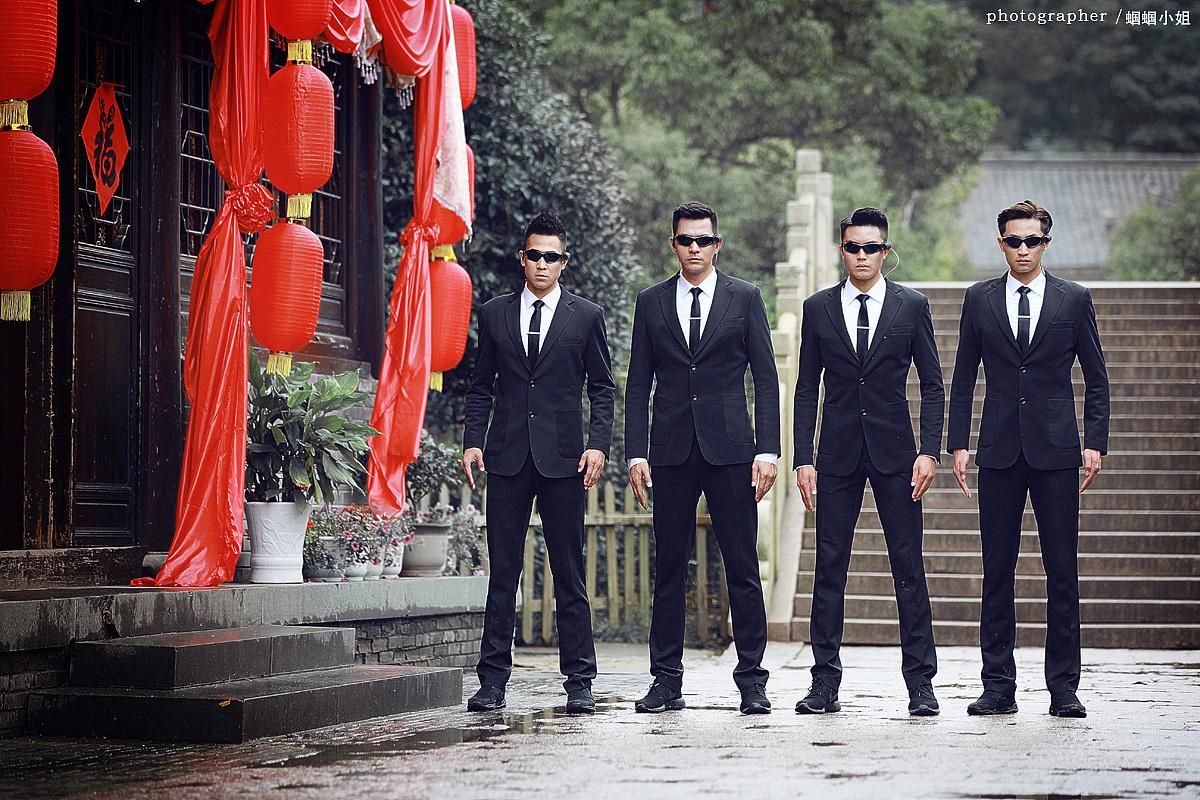up: (947, 195, 1123, 728), (447, 198, 617, 719), (620, 198, 780, 716), (786, 206, 947, 720)
